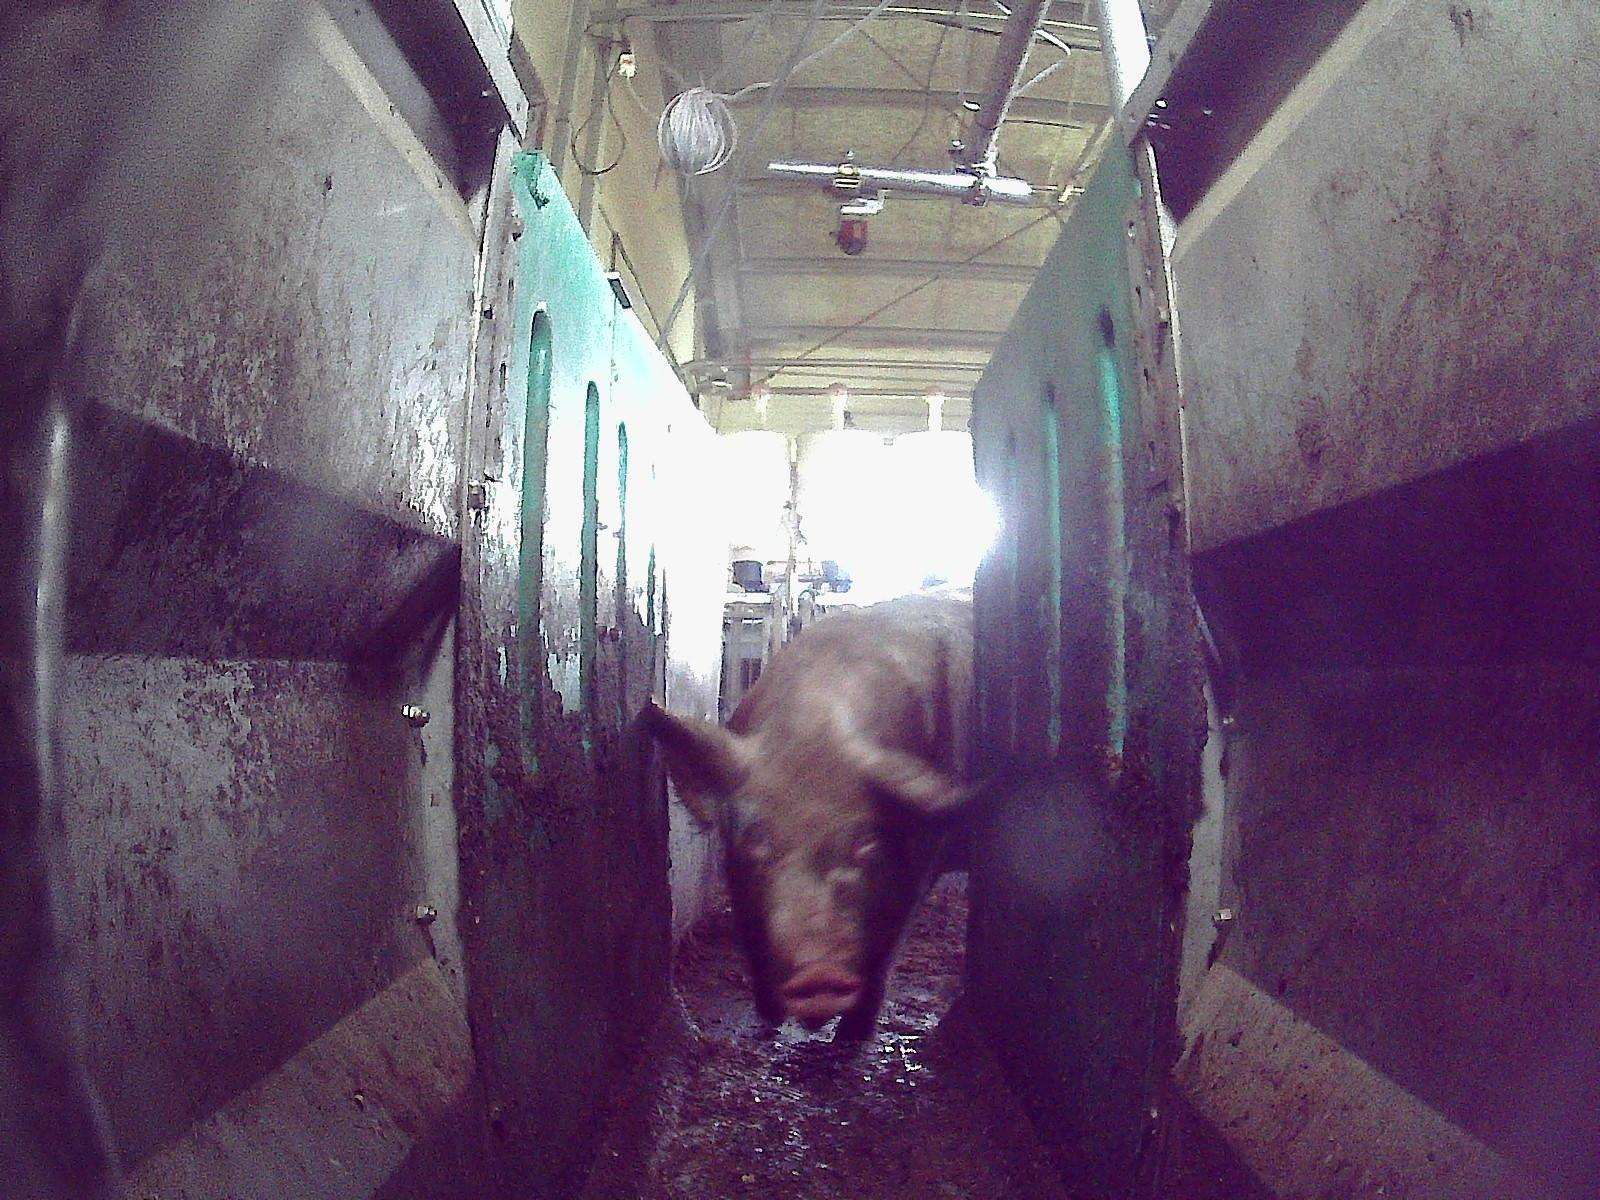Face: (721, 729, 910, 1019)
